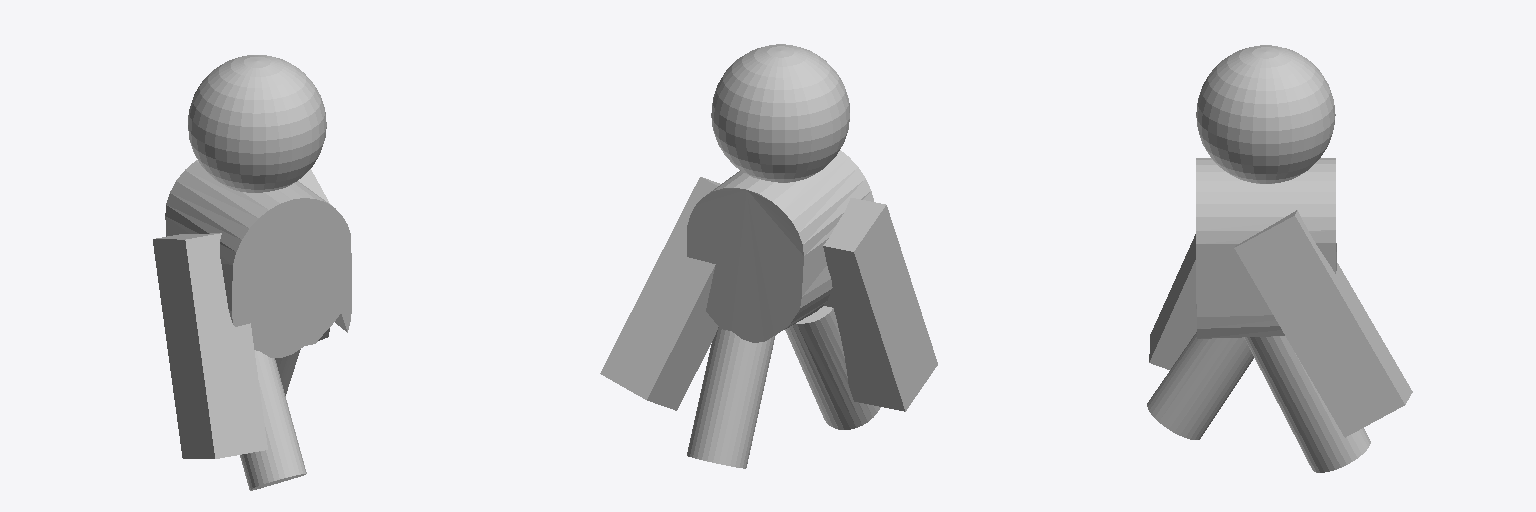
The model's file is Figurine70.obj.
The picture shows the model from 3 angles: view 1: azimuth 30°, elevation 25°; view 2: azimuth 150°, elevation 25°; view 3: azimuth 270°, elevation 25°; orthographic projection.
Parts seen in each view (by area): view 1: Cylinder; view 2: Cylinder; view 3: Cylinder.
Part boxes in pixels (bbox=[...]): Cylinder: bbox=[153, 55, 351, 490]; Cylinder: bbox=[600, 44, 937, 468]; Cylinder: bbox=[1147, 45, 1412, 472].
Size of the model in its own units: 3.49 by 6.38 by 3.81.